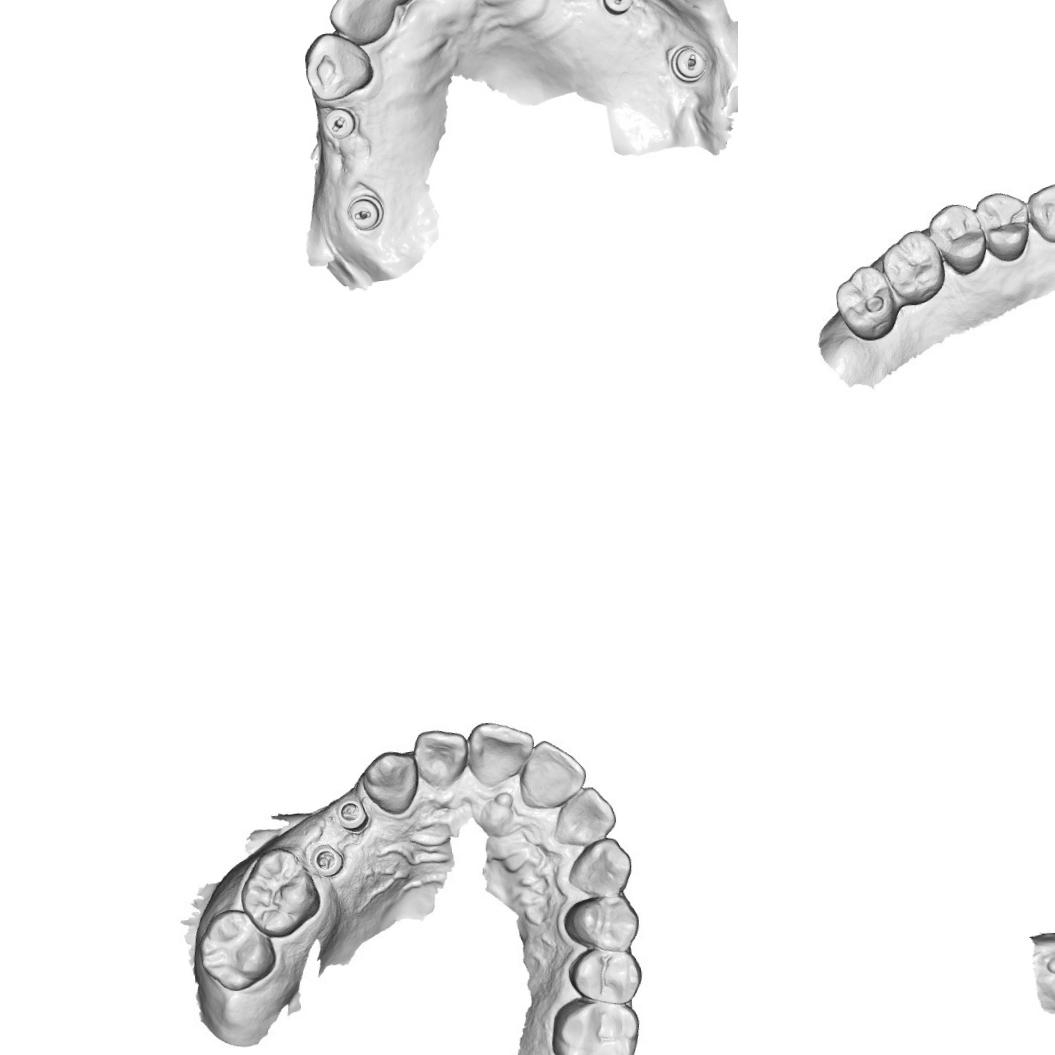canine: (299, 26, 378, 106), (361, 750, 426, 818), (568, 840, 632, 896), (1028, 182, 1055, 243)
implant: (306, 839, 343, 880), (334, 793, 372, 830)
implant_minus: (343, 190, 388, 234), (668, 41, 710, 85), (319, 102, 360, 144), (596, 0, 637, 22)
incisor: (513, 738, 587, 812), (467, 718, 532, 785), (322, 0, 395, 48), (555, 790, 614, 848), (415, 730, 470, 787)
molar: (194, 909, 274, 997), (238, 849, 320, 928), (831, 262, 898, 344), (554, 998, 645, 1055), (879, 226, 942, 303)
premolar: (928, 201, 991, 275), (575, 945, 639, 1009), (978, 189, 1030, 261), (574, 894, 637, 952)
